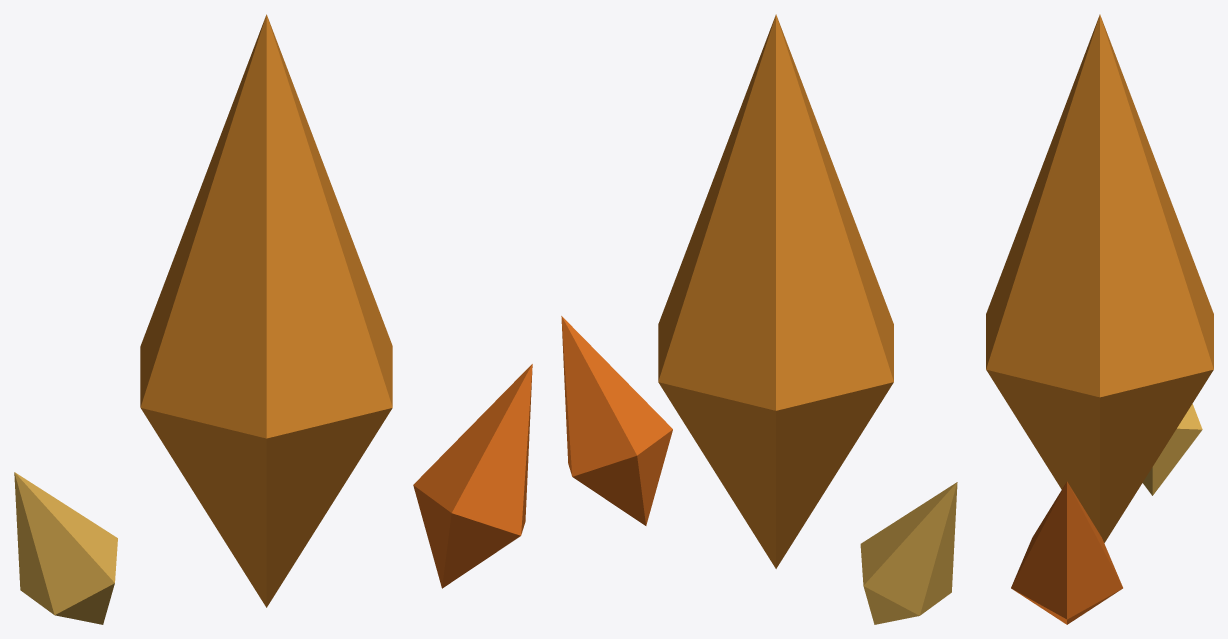
File: shard.glb
3 views of the same model, side by side, from view 1: azimuth 30°, elevation 25°; view 2: azimuth 150°, elevation 25°; view 3: azimuth 270°, elevation 25° (orthographic). The views are drawn at different scales.
Parts seen in each view (by area): view 1: shard; view 2: shard; view 3: shard.
Boxes of the visible parts, <box> form: shard: <box>14,14,532,624</box>; shard: <box>561,14,957,624</box>; shard: <box>986,14,1213,624</box>.
Bounding box in the file's own units: 0.7469 × 0.9088 × 0.3464.
